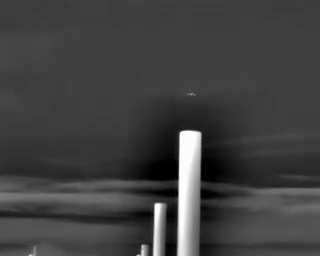BIRD: (185, 90, 198, 100)
